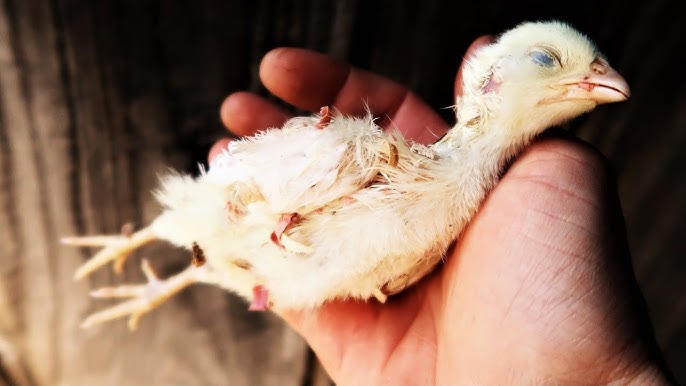Unhealthy: (93, 13, 643, 311)
